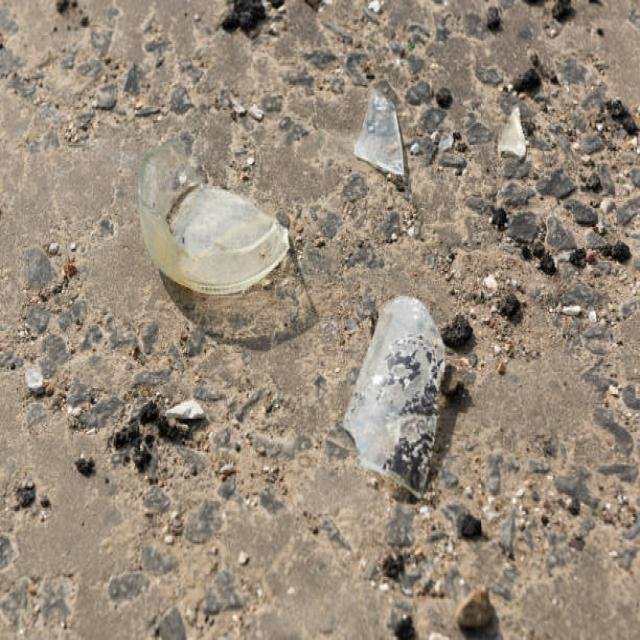electronic: (138, 131, 292, 297)
